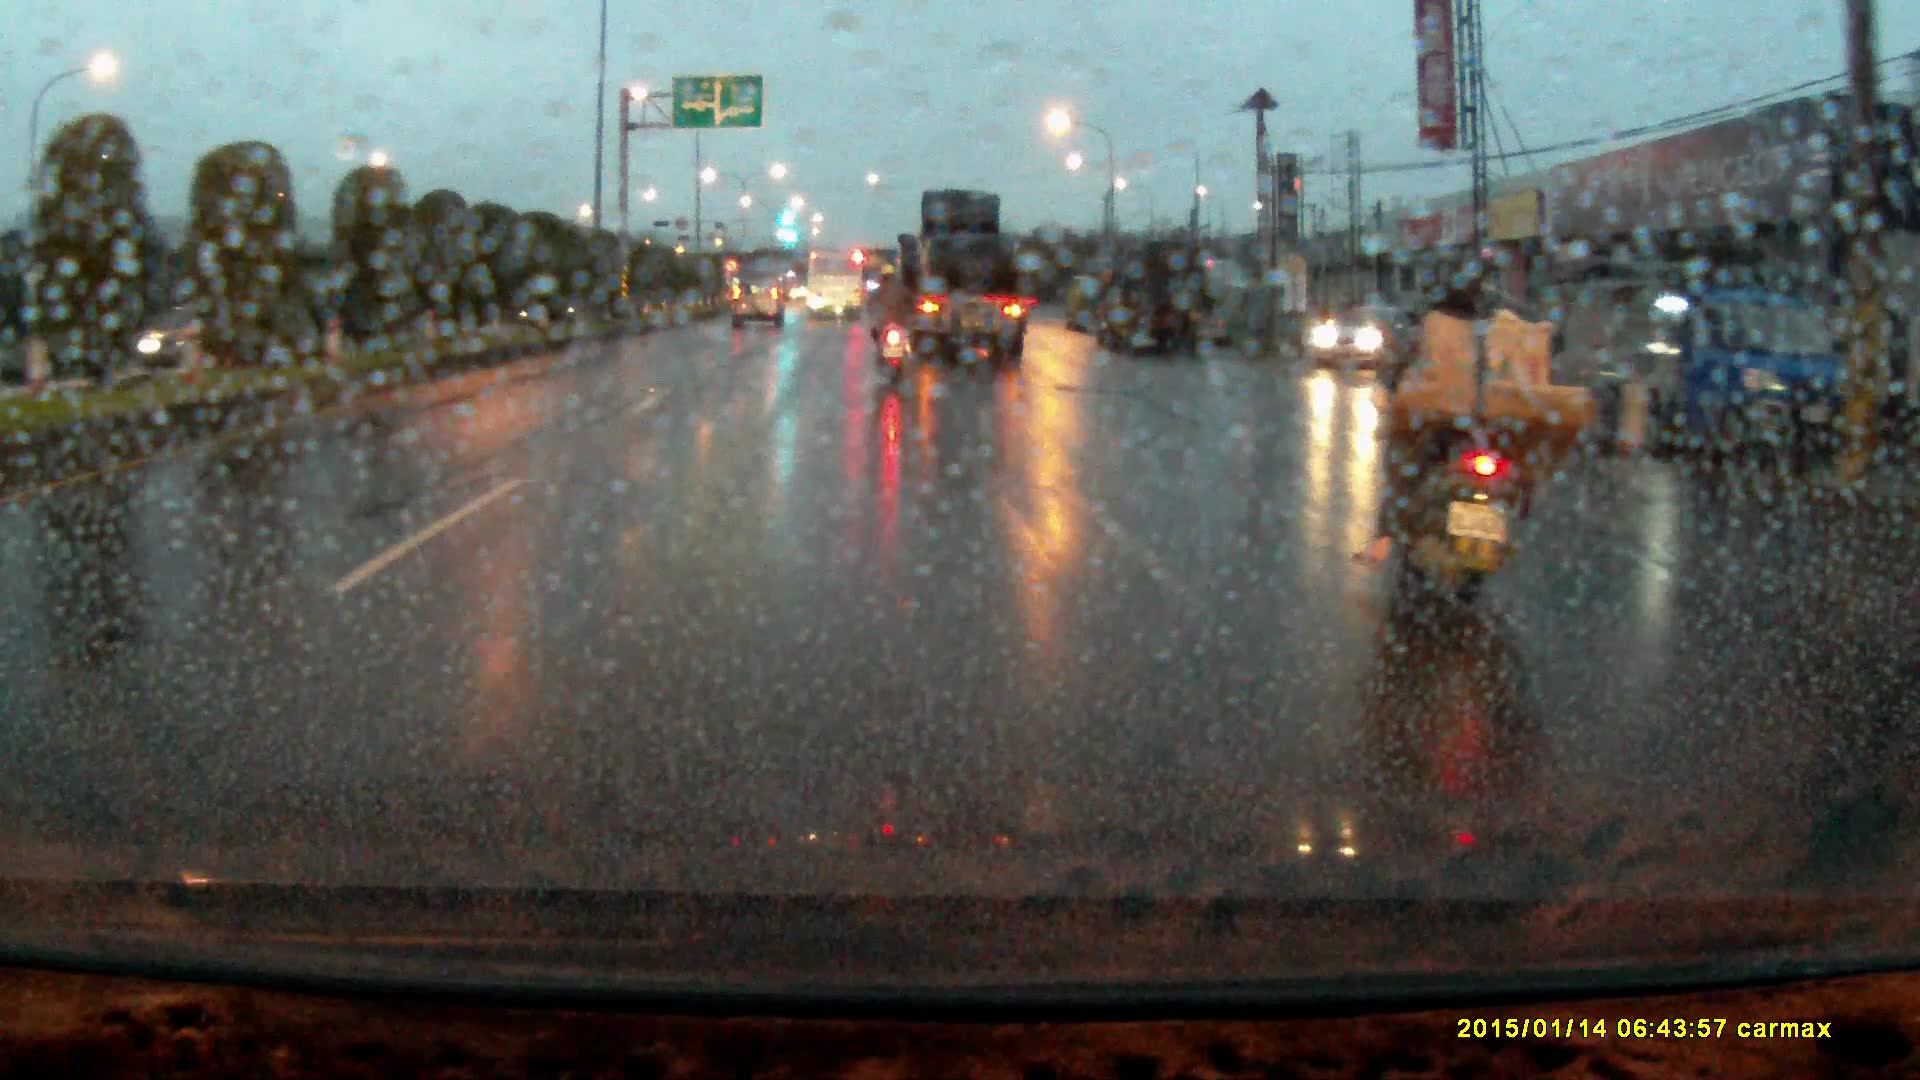rider: (1366, 250, 1603, 659), (867, 265, 921, 383)
vehicle: (1587, 286, 1842, 464), (883, 197, 1022, 372), (1103, 250, 1214, 366), (1309, 309, 1414, 373), (806, 253, 865, 328), (1064, 279, 1115, 339), (732, 287, 787, 338)
